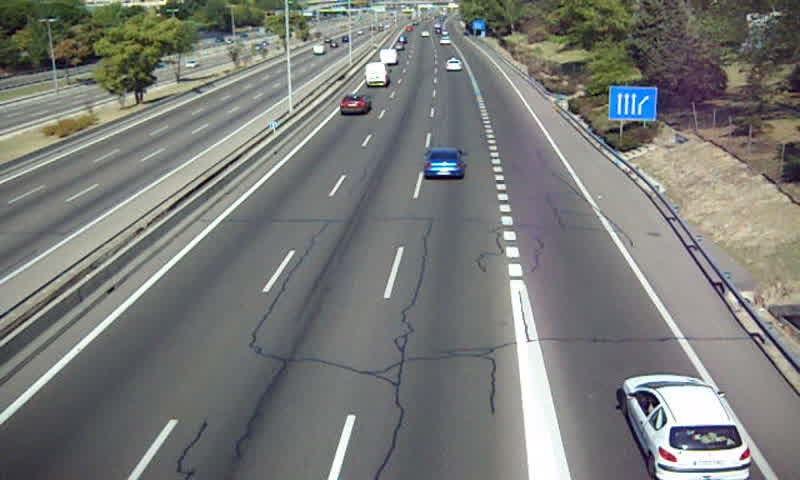car: (621, 374, 751, 480), (424, 147, 467, 181), (339, 92, 372, 115), (446, 59, 464, 72)
van: (363, 62, 392, 87), (380, 46, 397, 66)
